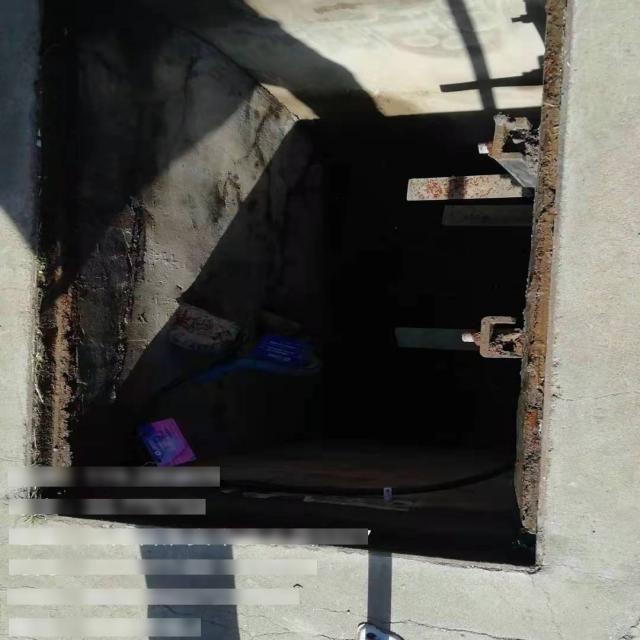Uncovered: (17, 0, 569, 579)
